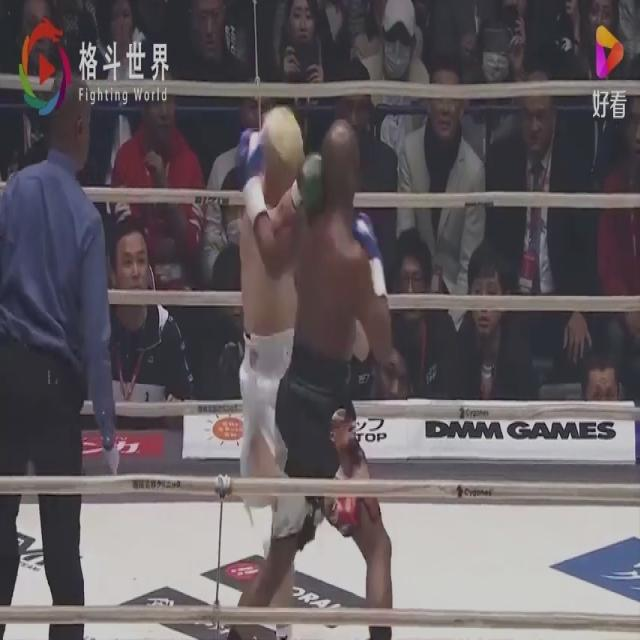fight: (238, 101, 394, 640)
non-fight: (0, 76, 115, 640)
